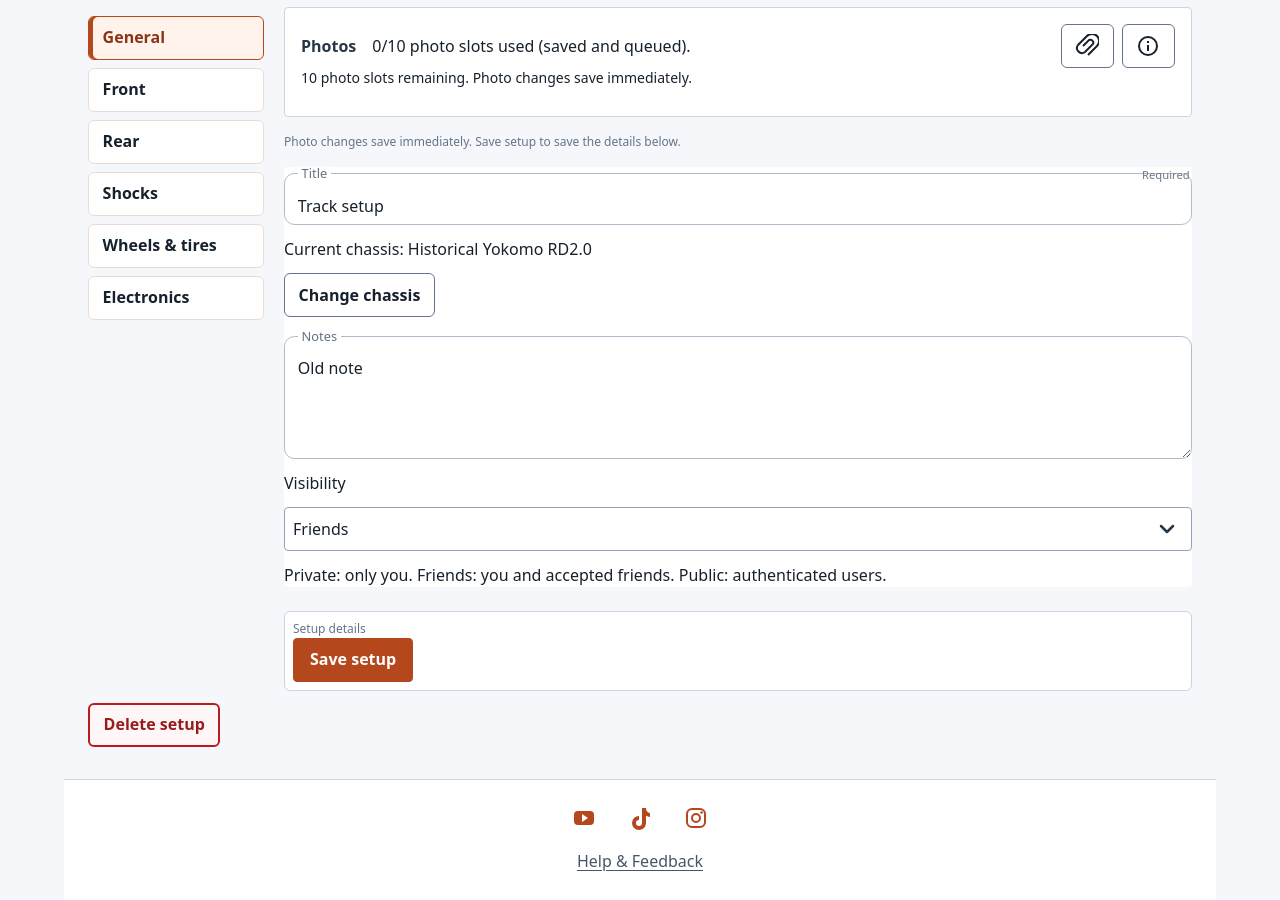
Test: handles PATCH 404 without inventing auth failure
(page scrolled)
Expected: the field labelled "Title" is shown, x1=284 y1=173 x2=1192 y2=225
Click the button "Save setup".
click(353, 660)  # box x1=293 y1=638 x2=413 y2=682
(page scrolled)
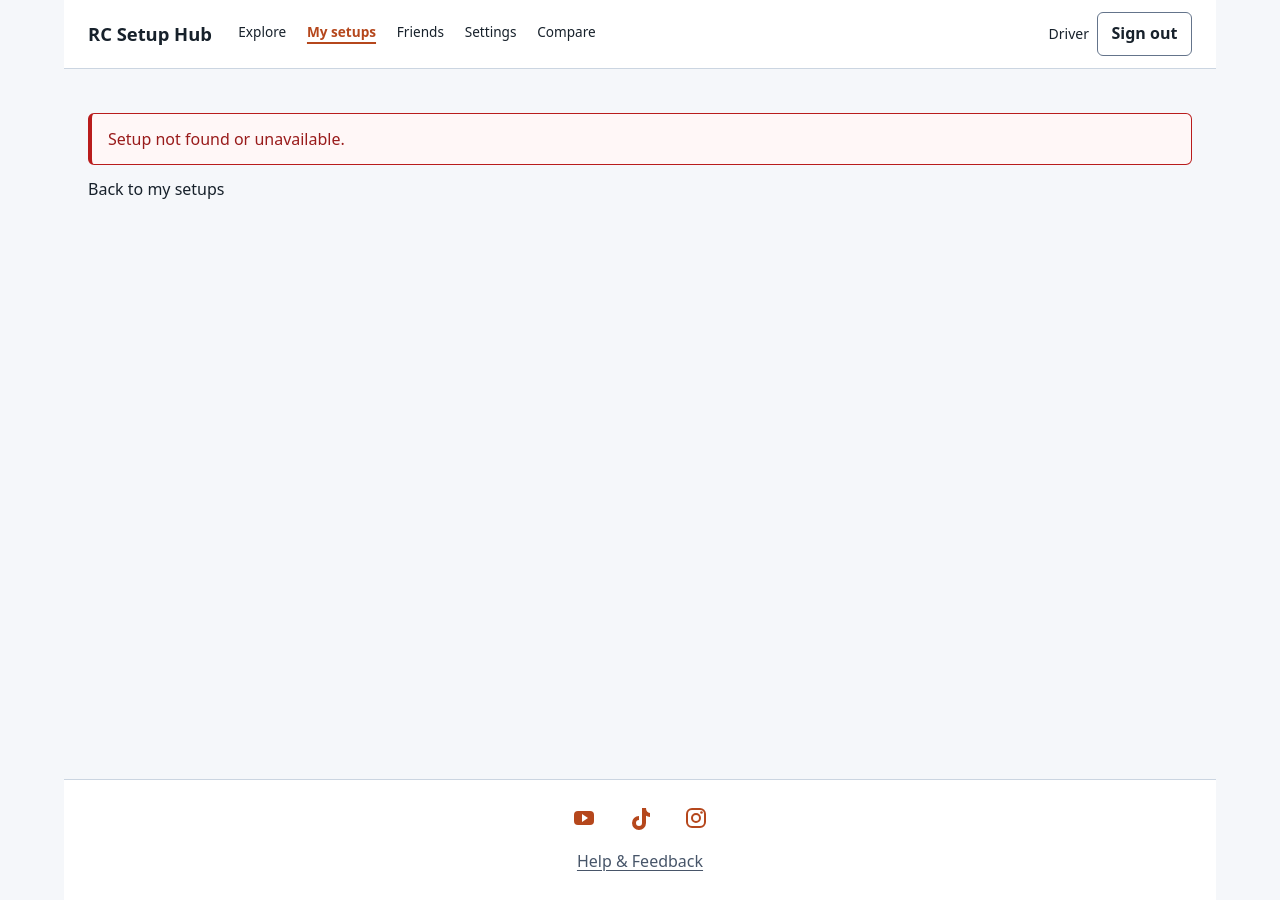
Expected: the message "Setup not found or unavailable." is shown, x1=88 y1=113 x2=1192 y2=165
Expected: the label labelled "Title" is gone
